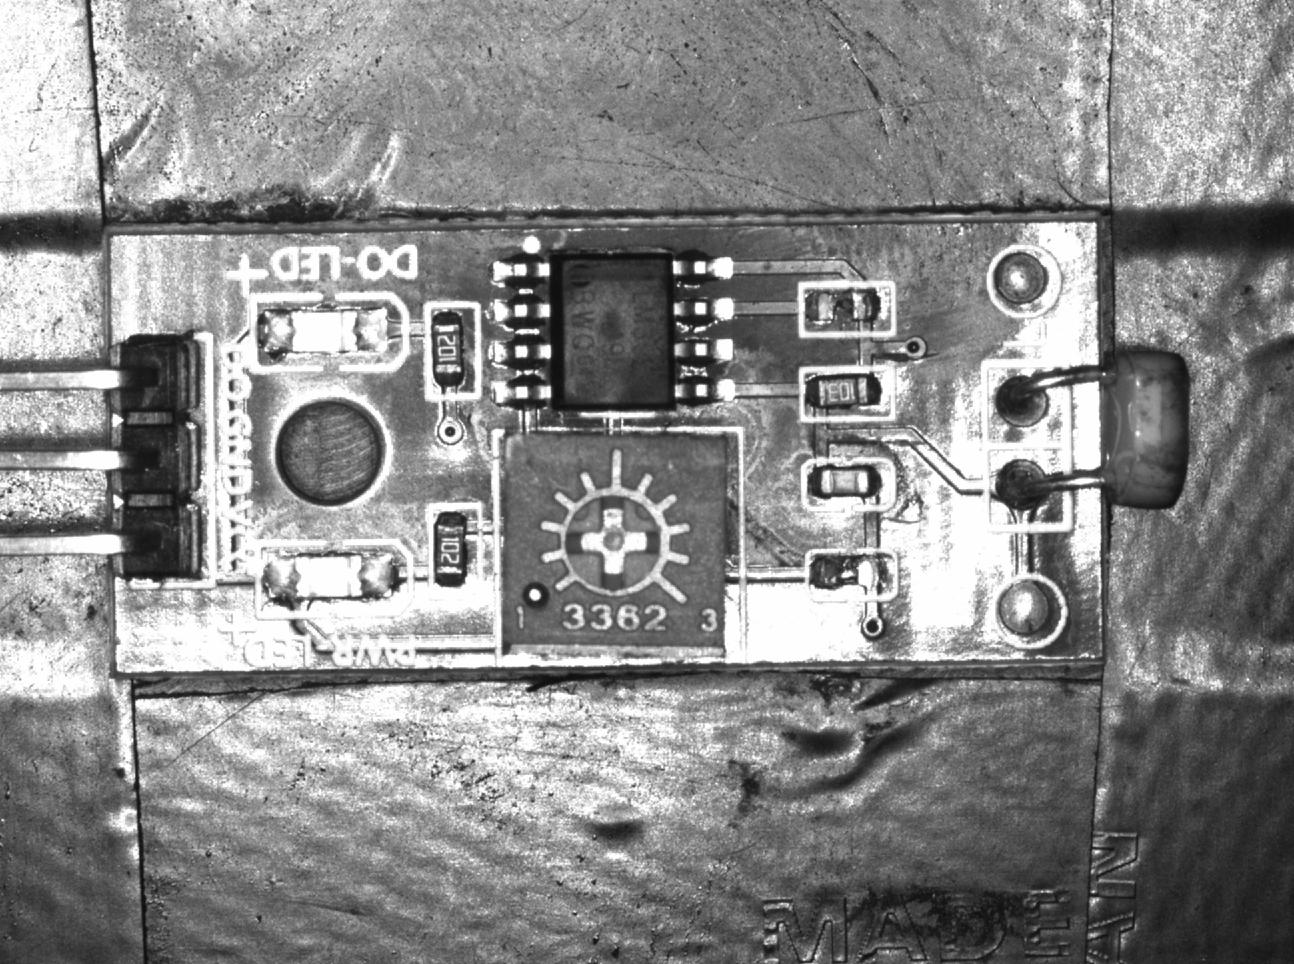miss: (796, 282, 893, 335), (809, 549, 898, 601)
ok: (425, 300, 481, 400), (798, 368, 894, 425), (801, 456, 894, 510), (428, 501, 483, 591)
